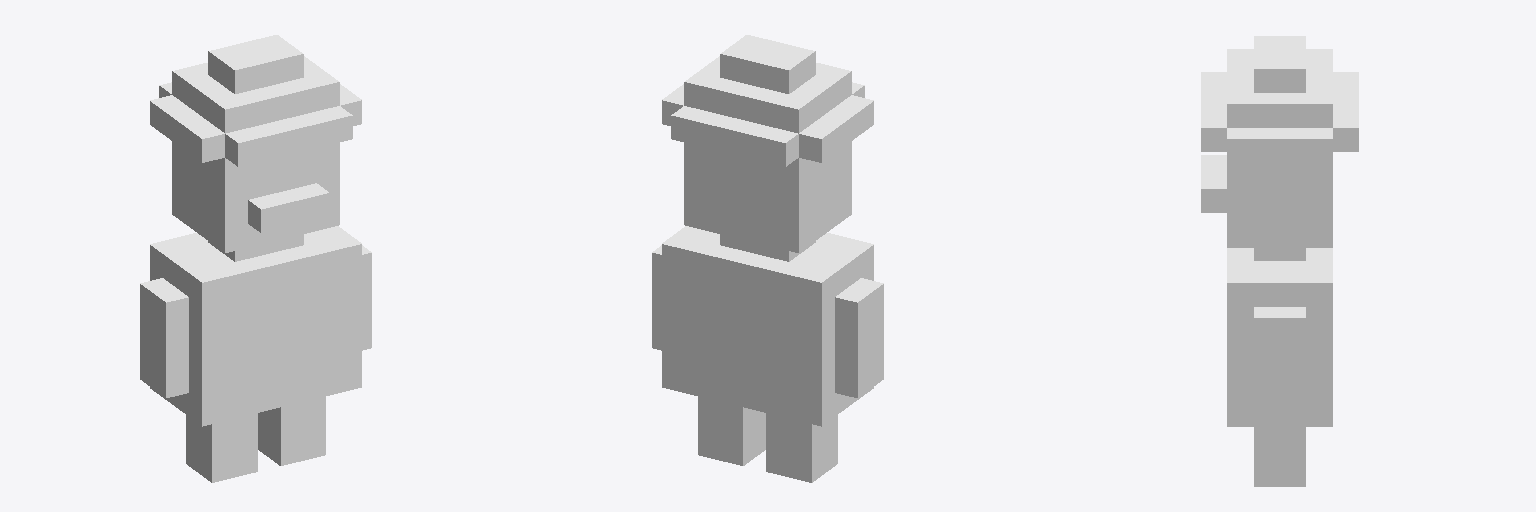
File: customer_man.obj
3 views of the same model, side by side, from view 1: azimuth 30°, elevation 25°; view 2: azimuth 150°, elevation 25°; view 3: azimuth 270°, elevation 25° (orthographic).
Visible parts, largest first — view 1: customer_man; view 2: customer_man; view 3: customer_man.
Part boxes in pixels (bbox=[...]): customer_man: bbox=[140, 35, 371, 482]; customer_man: bbox=[652, 35, 883, 482]; customer_man: bbox=[1201, 36, 1358, 486].
Size of the model in its own units: 9 by 17 by 6.